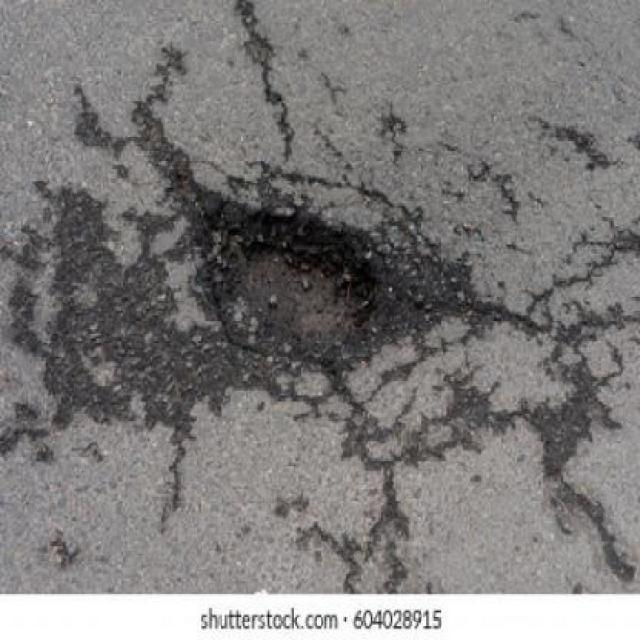pothole: (198, 194, 379, 373)
